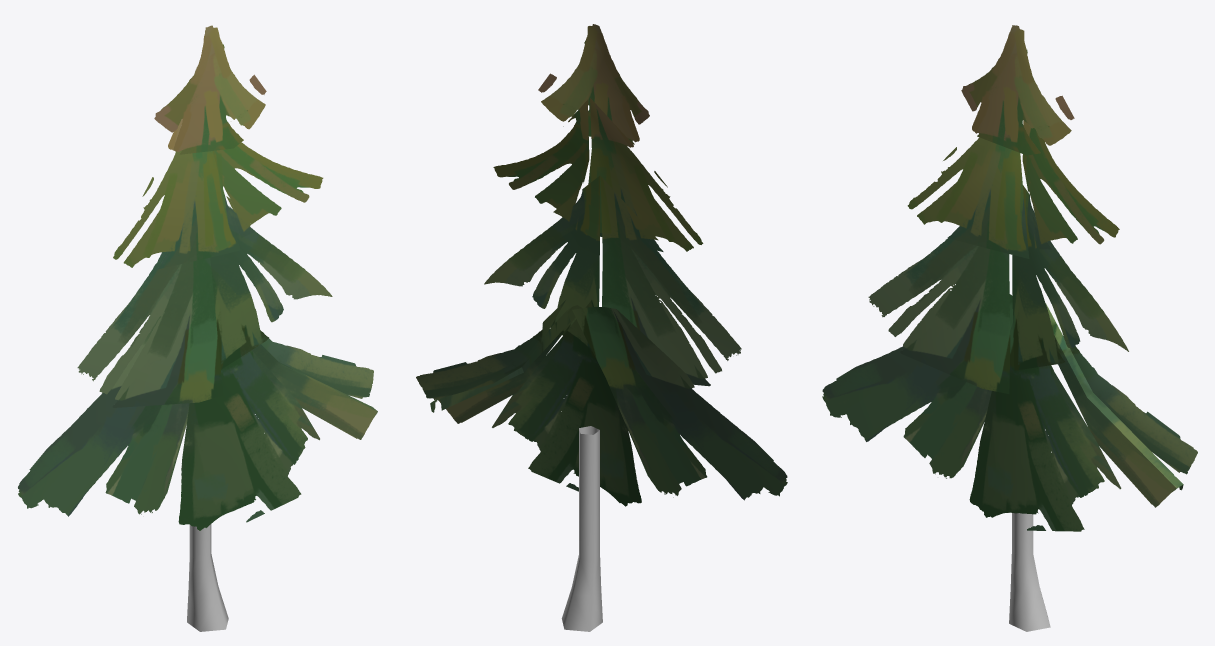
Rendered from pinetree.fbx.
The picture shows the model from 3 angles, left to right: view 1: azimuth 30°, elevation 25°; view 2: azimuth 150°, elevation 25°; view 3: azimuth 330°, elevation 25°; orthographic projection.
Parts seen in each view (by area): view 1: pinetree; view 2: pinetree; view 3: pinetree.
Boxes of the visible parts, box(x1,y1,x2,y2) form: pinetree: box(18, 25, 377, 631); pinetree: box(416, 24, 787, 631); pinetree: box(822, 25, 1197, 631).
Bounding box in the file's own units: 253 × 399 × 37.21.
